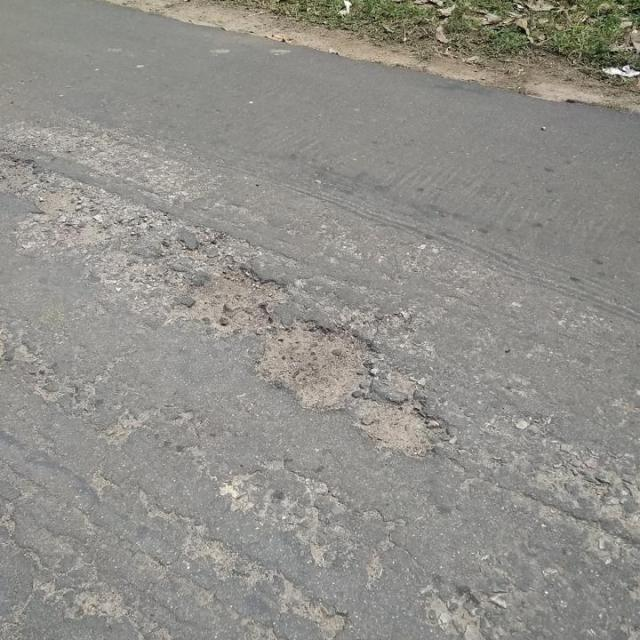minor_pothole: (0, 148, 124, 247), (250, 318, 378, 412), (183, 259, 288, 337), (355, 394, 447, 464)
